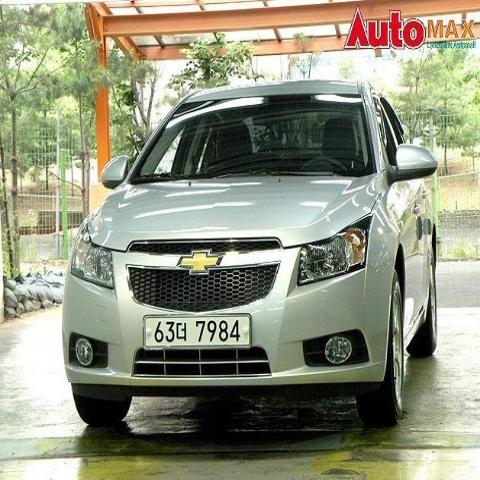LP: (140, 307, 257, 356)
